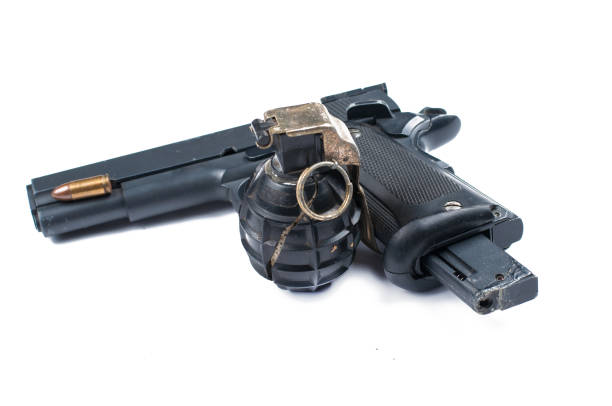e1: (237, 98, 374, 297)
